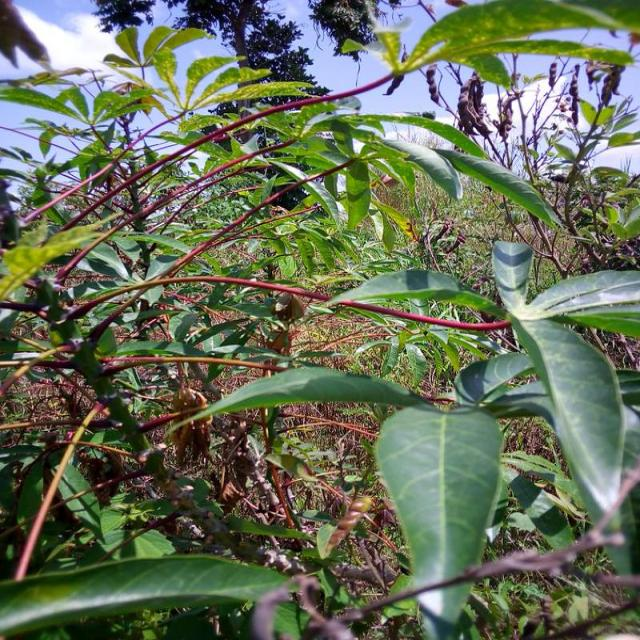cassava leaf: (376, 403, 505, 635), (1, 551, 298, 637), (202, 363, 434, 418)
